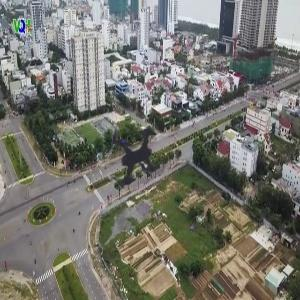drone: (39, 64, 224, 249)
